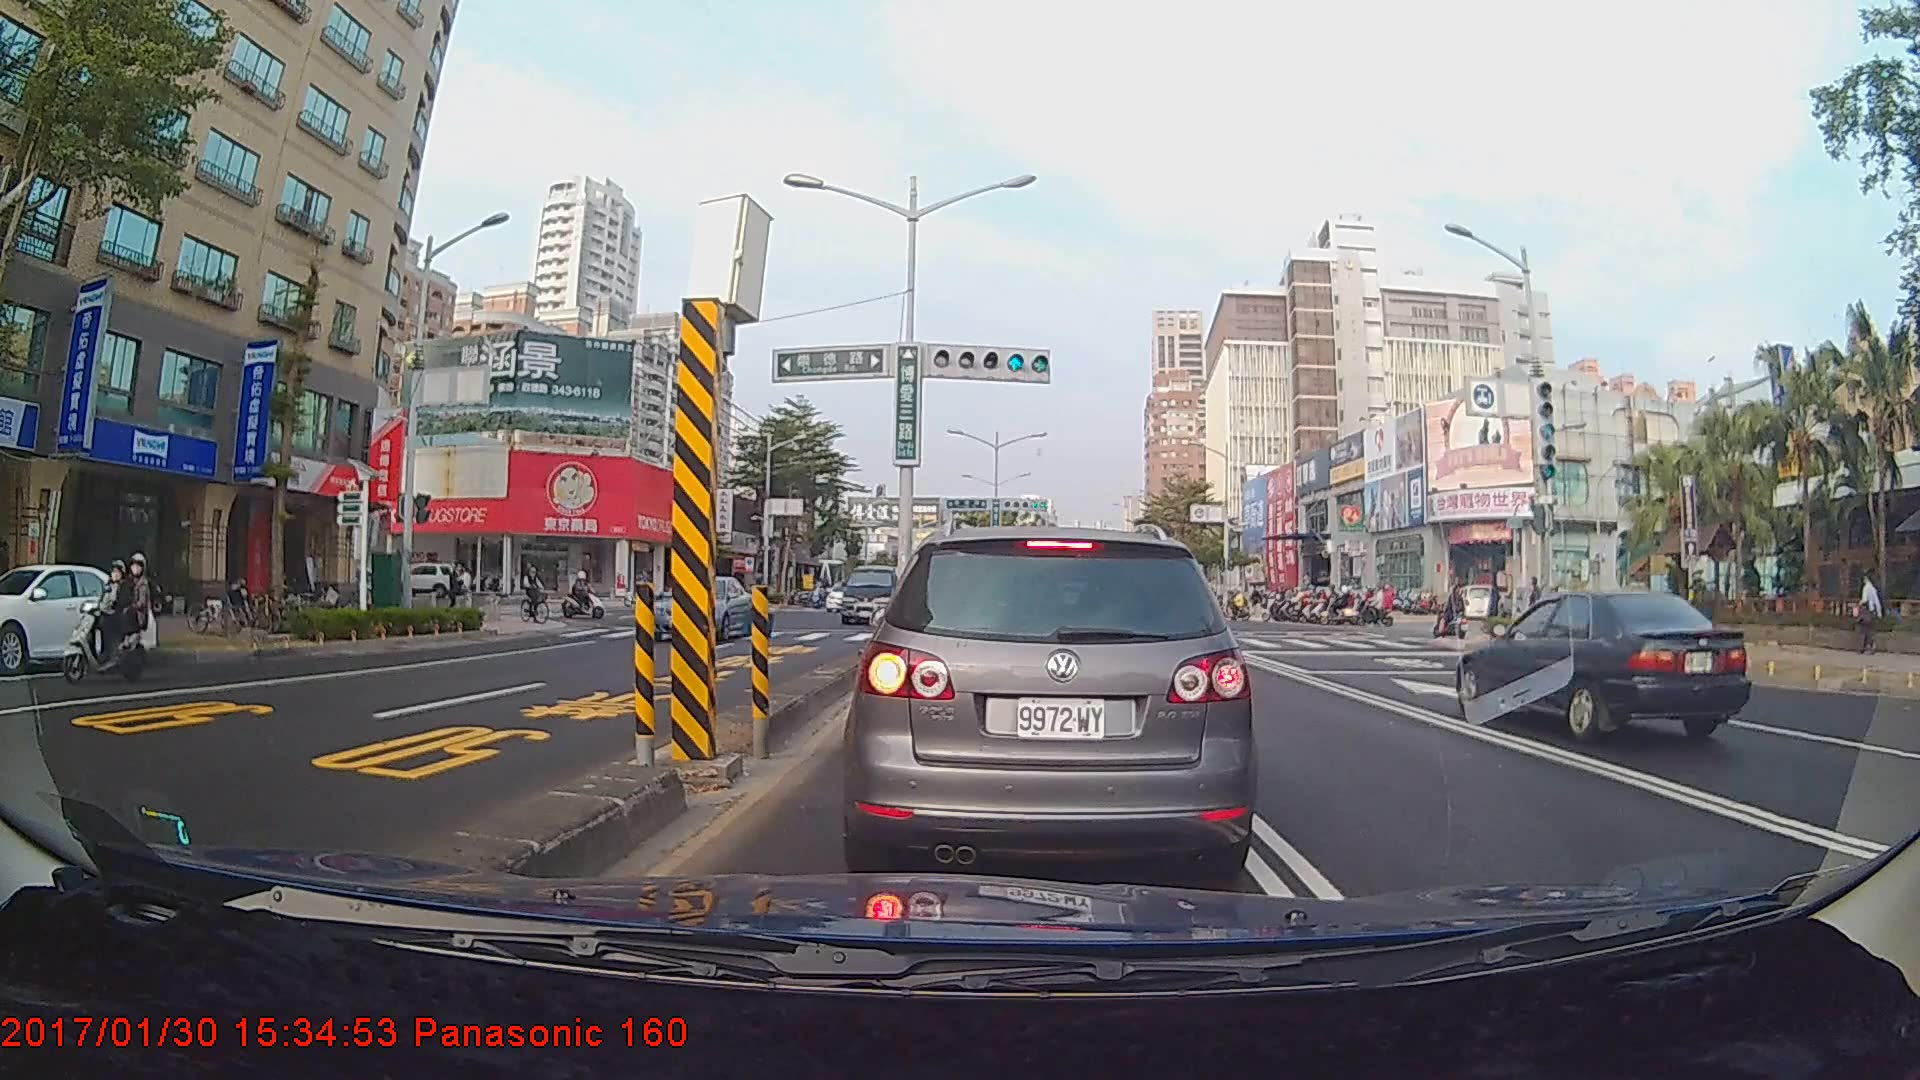pedestrian: (1860, 574, 1881, 654), (444, 558, 468, 621), (1484, 579, 1509, 637)
rider: (48, 555, 146, 690), (562, 568, 613, 625), (518, 559, 553, 629), (1436, 582, 1473, 646)
vehicle: (853, 526, 1250, 874), (1453, 586, 1751, 743), (0, 561, 157, 671), (647, 574, 755, 642), (838, 562, 902, 625), (822, 582, 865, 612)
